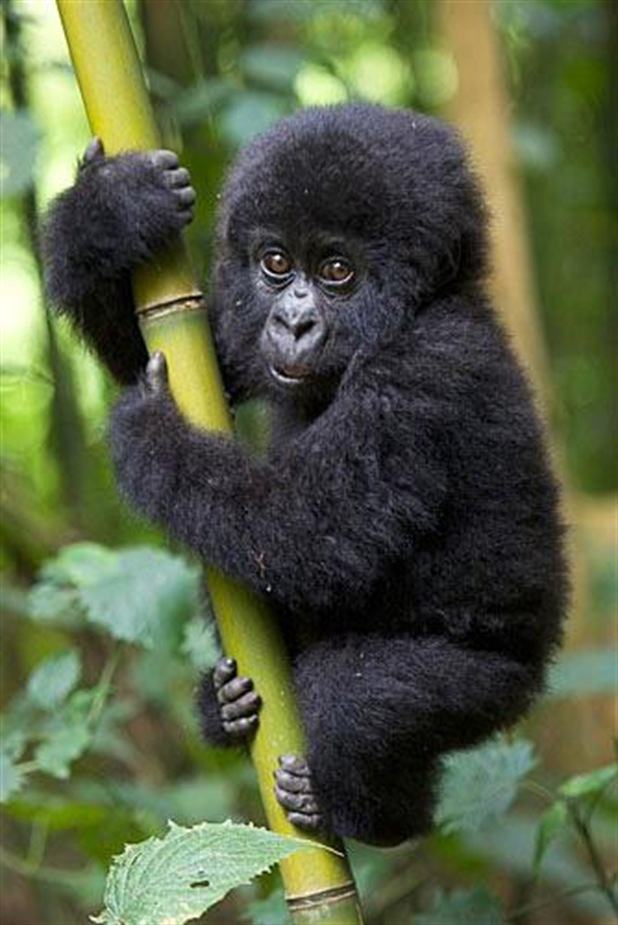Goriila: (67, 94, 566, 871)
